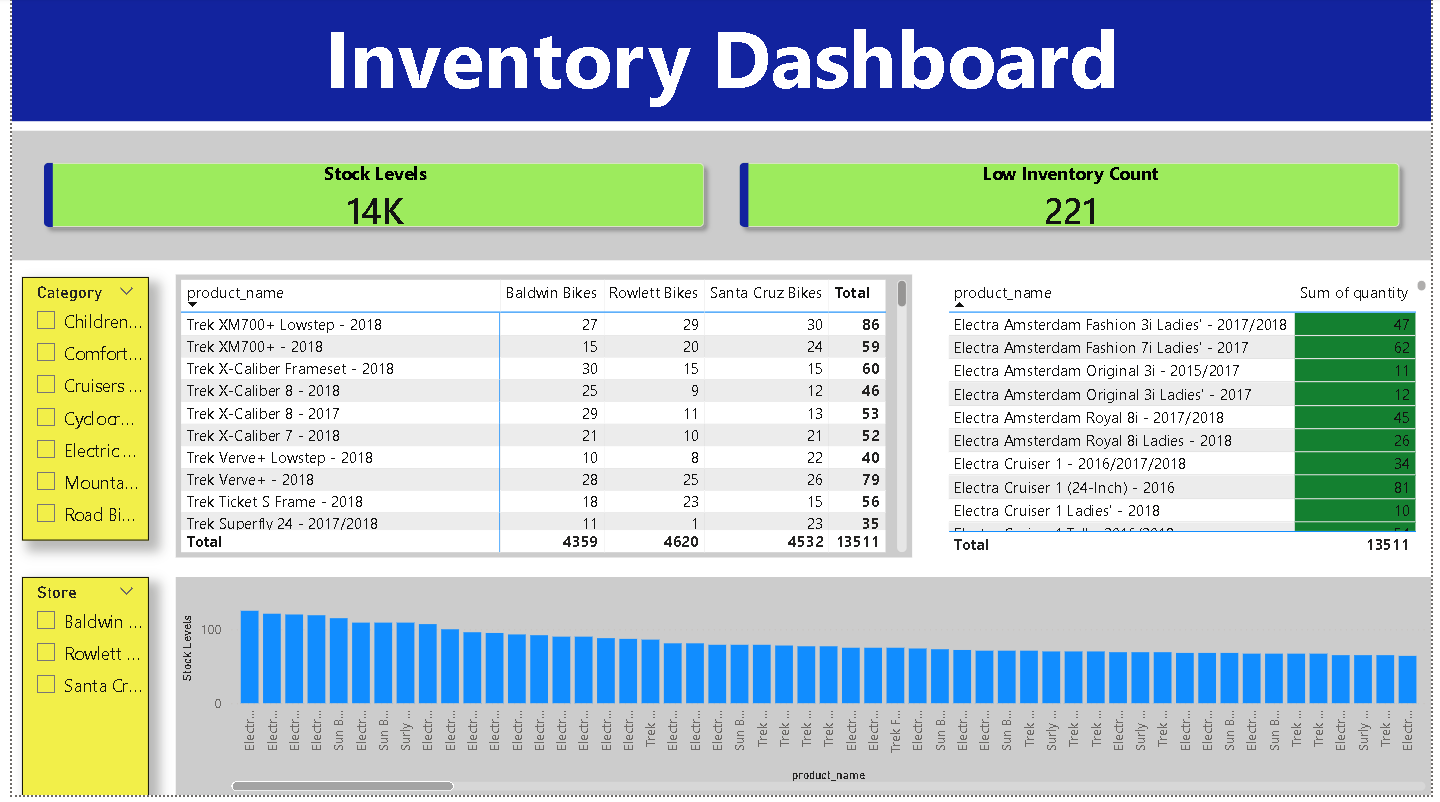

What the dashboard file says about the page in this screenshot:
{"tool":"powerbi","page":{"name":"Inventory Dashboard","canvas":[1280,720],"ordinal":1},"visuals":[{"type":"cardVisual","fields":{"Data":["DAX.Stock Levels","DAX.Low Inventory Count"]},"box":[0,120.7,1280,116.9],"z":0},{"type":"clusteredColumnChart","fields":{"Category":["products.product_name"],"Y":["DAX.Stock Levels"]},"box":[148,522.5,1132,197.8],"z":1000},{"type":"tableEx","fields":{"Values":["products.product_name","Sum(stocks.quantity)"]},"box":[838.4,250,441.6,257.5],"z":2000},{"type":"pivotTable","fields":{"Rows":["products.product_name"],"Columns":["stores.store_name"],"Values":["DAX.Product Availability"]},"box":[148,250,664.3,255],"z":3000},{"type":"slicer","fields":{"Values":["categories.category_name"]},"box":[8.7,252.5,114.4,237.6],"z":4000},{"type":"slicer","fields":{"Values":["stores.store_name"]},"box":[8.7,522.5,114.4,197.8],"z":5000},{"type":"textbox","box":[0,0,1280,112],"z":6000}]}

Visuals, with their boxes in screenshot pixels (x1, y1, x2, y2), scaled from the page's 1280x720 canvas onto the 1440x802 screenshot:
cardVisual - DAX.Stock Levels x DAX.Low Inventory Count: bbox(0, 134, 1439, 265)
clusteredColumnChart - products.product_name x DAX.Stock Levels: bbox(166, 582, 1439, 801)
tableEx - products.product_name x Sum(stocks.quantity): bbox(943, 278, 1439, 565)
pivotTable - products.product_name x stores.store_name: bbox(166, 278, 914, 563)
slicer - categories.category_name: bbox(10, 281, 138, 546)
slicer - stores.store_name: bbox(10, 582, 138, 801)
textbox: bbox(0, 0, 1439, 125)
